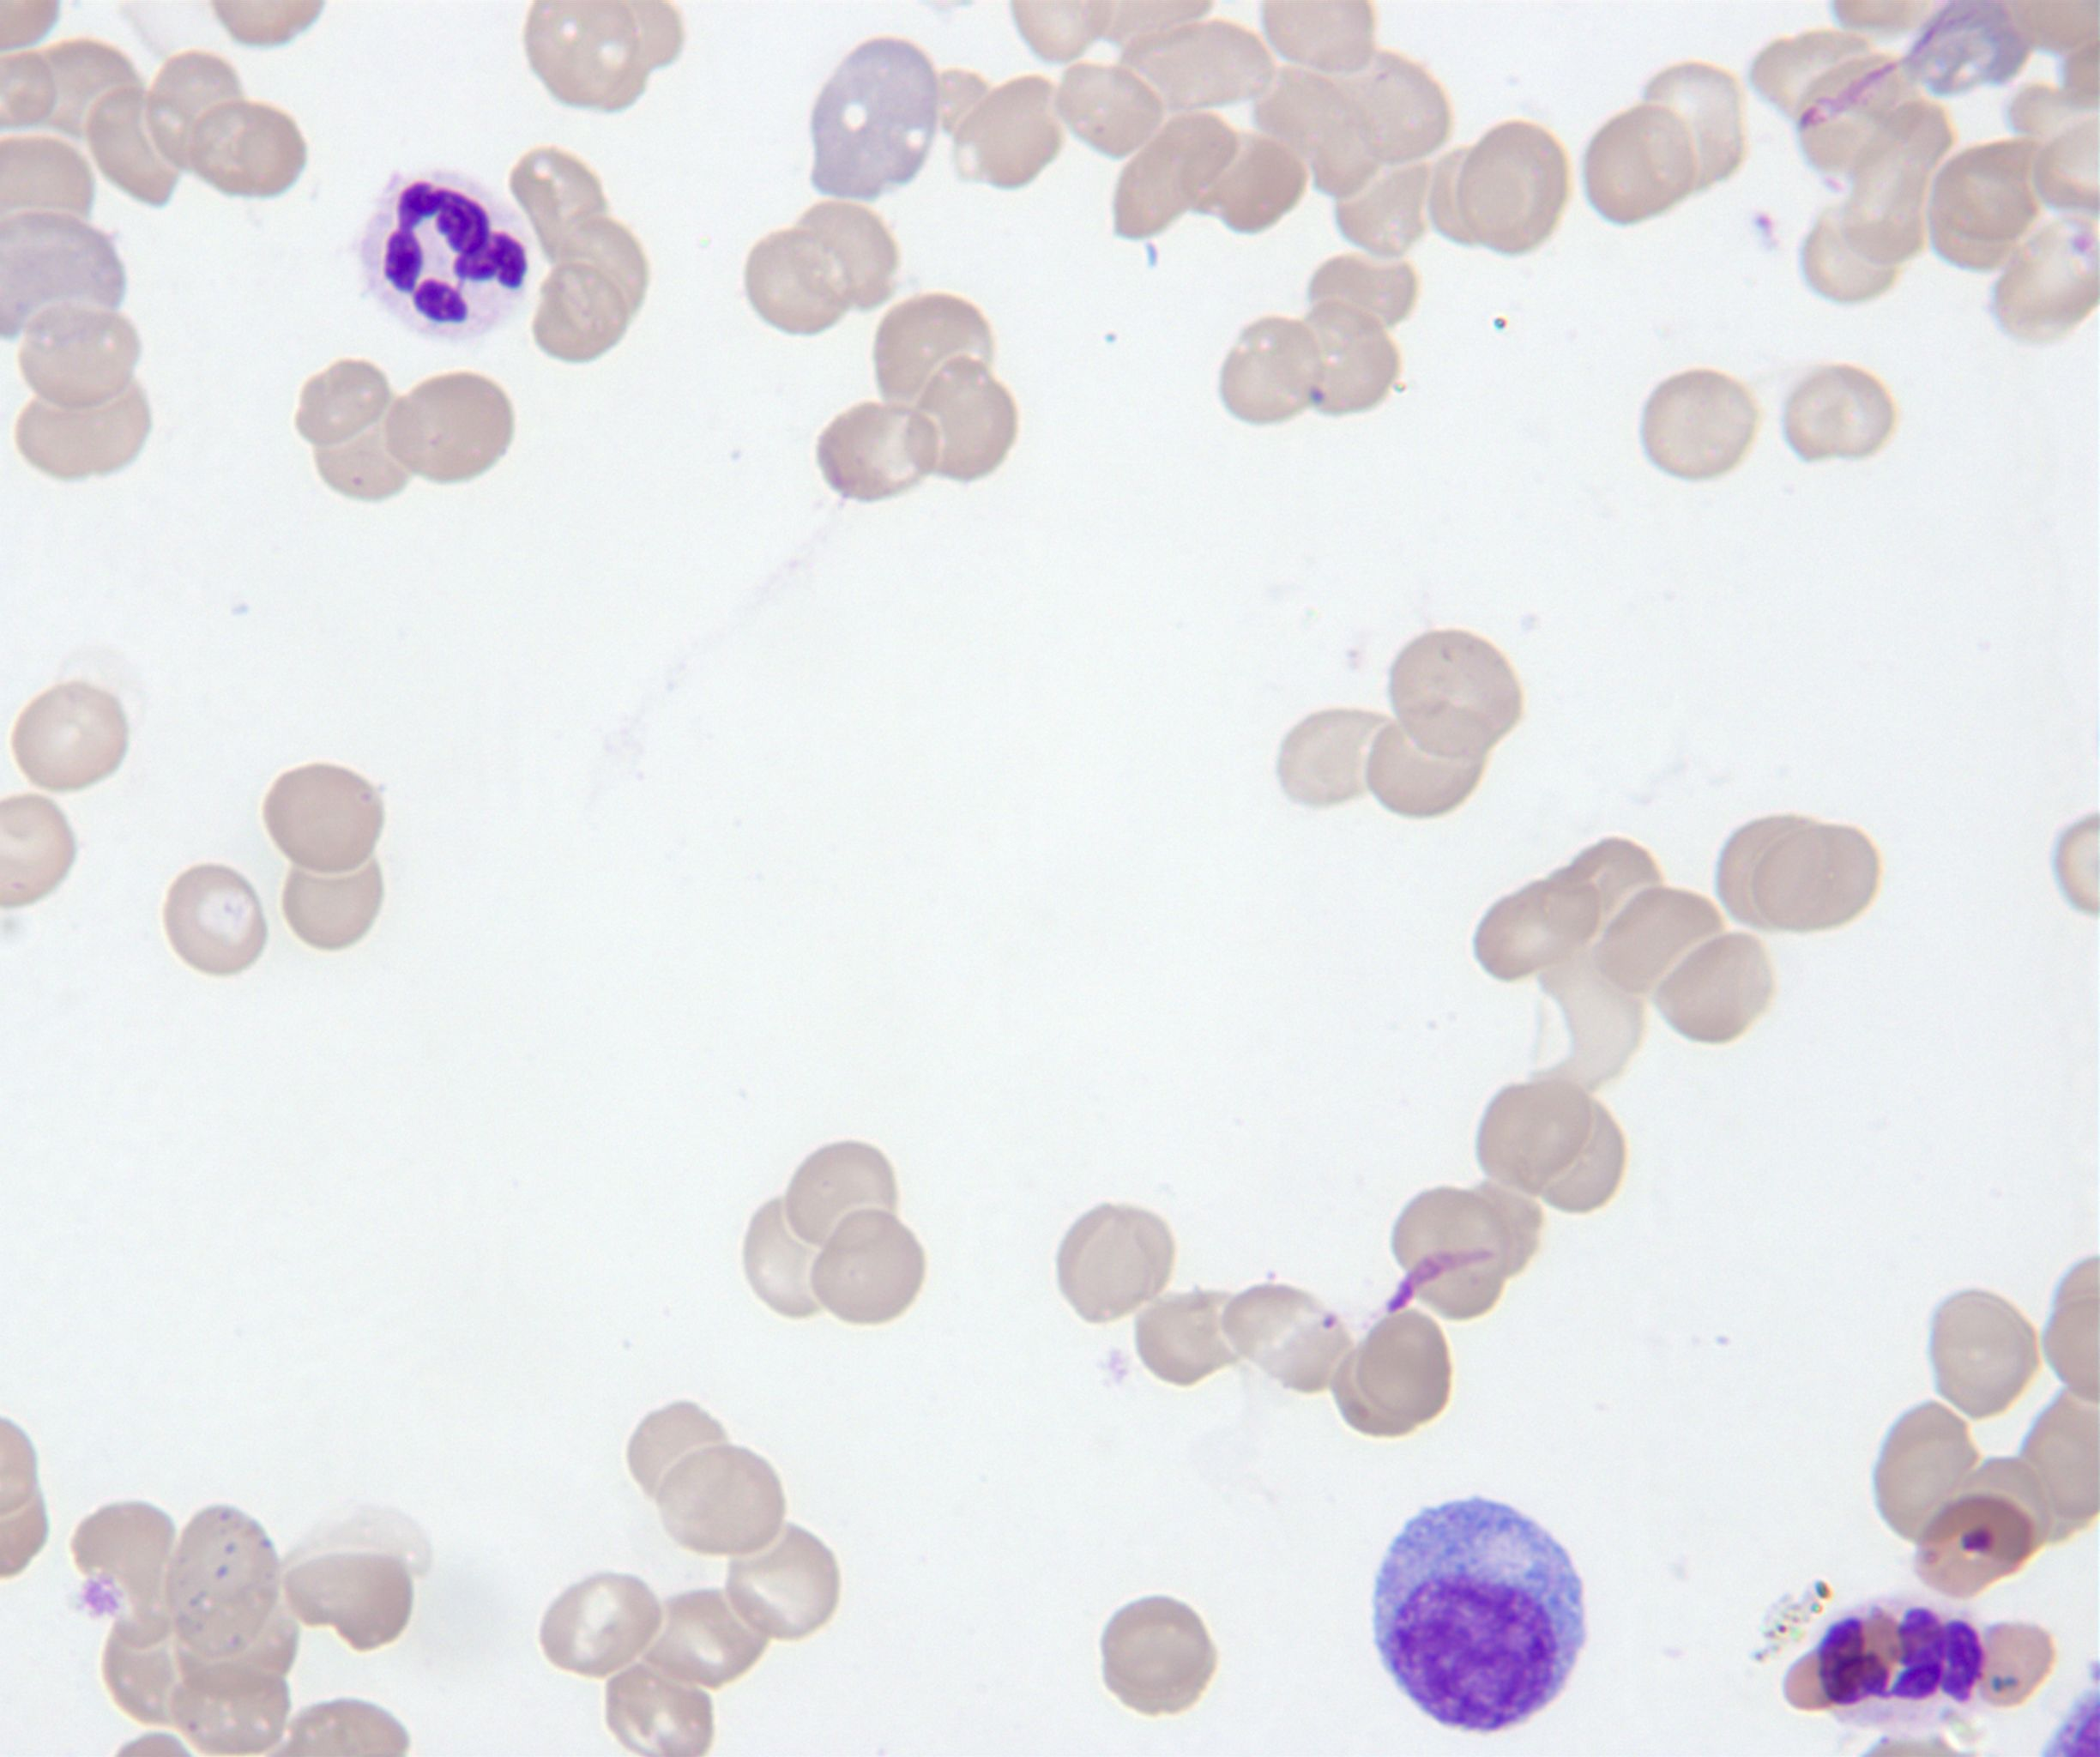3: (1373, 1499, 1585, 1733)
6: (359, 169, 535, 338)
x: (1817, 1596, 1985, 1731)
